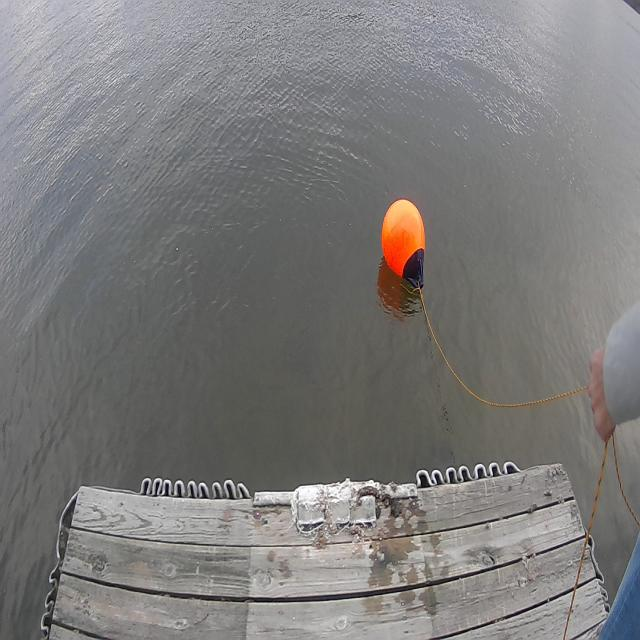Buoy: (376, 190, 432, 298)
